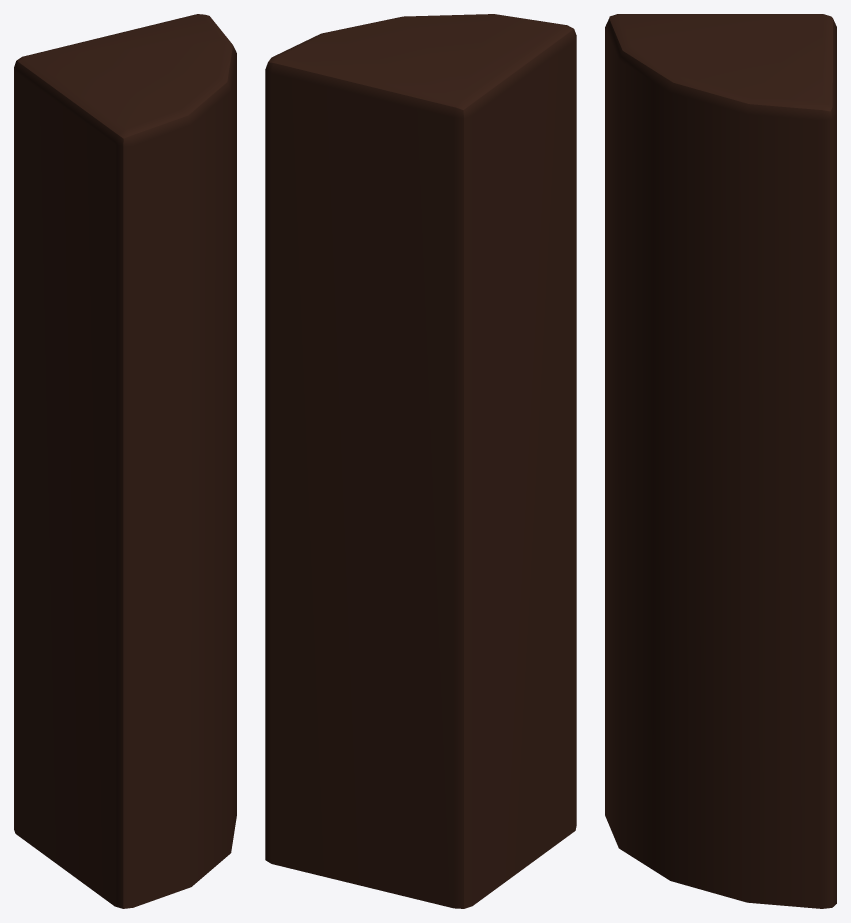
The model's file is Corner.fbx.
3 views of the same model, side by side, from view 1: azimuth 30°, elevation 25°; view 2: azimuth 150°, elevation 25°; view 3: azimuth 270°, elevation 25° (orthographic). The views are drawn at different scales.
Visible parts, largest first — view 1: Corner; view 2: Corner; view 3: Corner.
Boxes of the visible parts, bbox=[...] form: Corner: bbox=[14, 14, 236, 908]; Corner: bbox=[265, 14, 576, 908]; Corner: bbox=[605, 14, 836, 908].
Bounding box in the file's own units: 0.4 × 1.5 × 0.3933.
1 material, 1 textured.
